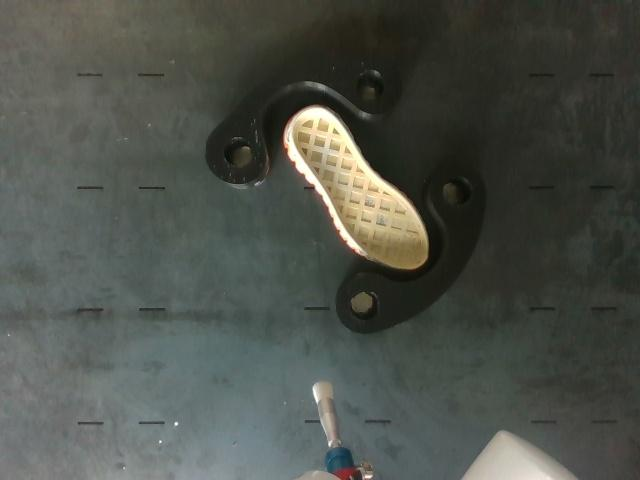shoes: (292, 108, 428, 269)
